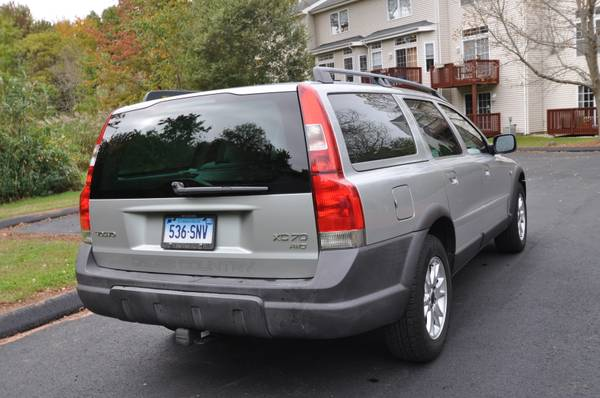volvo: (28, 68, 575, 371)
